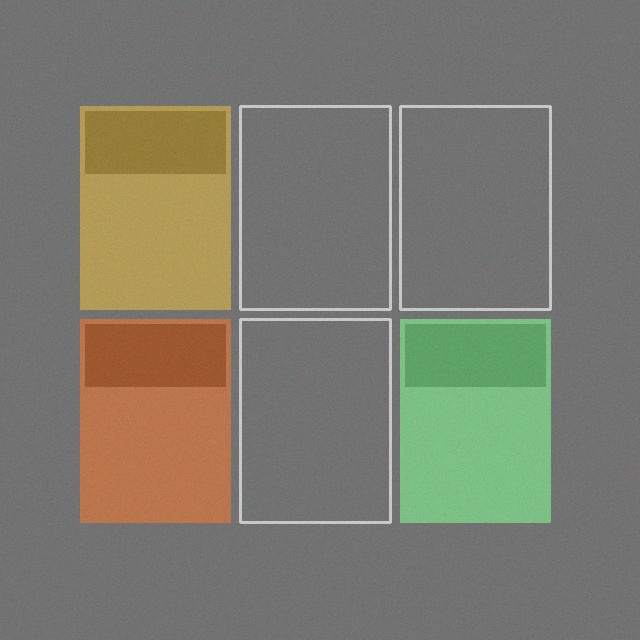space-empty: (240, 106, 390, 309), (400, 106, 550, 309), (240, 319, 390, 522)
space-occupied: (80, 106, 230, 309), (80, 319, 230, 522), (400, 319, 550, 522)
